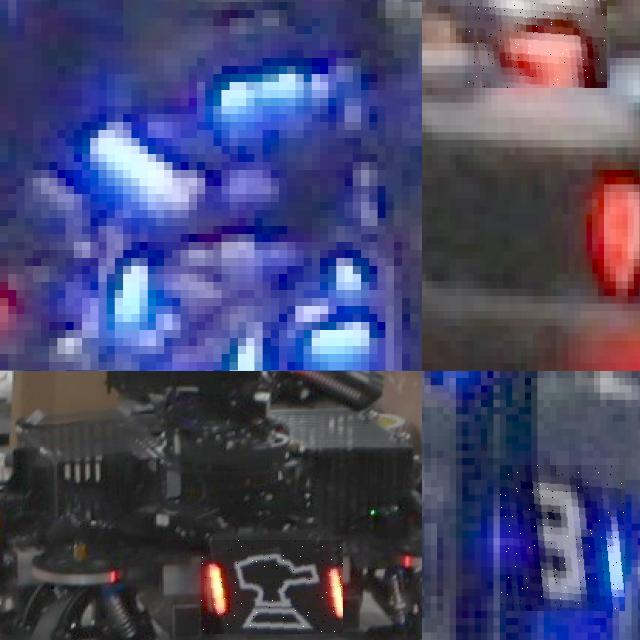B3: (500, 465, 625, 611)
R3: (465, 0, 607, 87), (577, 158, 640, 307)
Rs: (201, 540, 343, 634)
